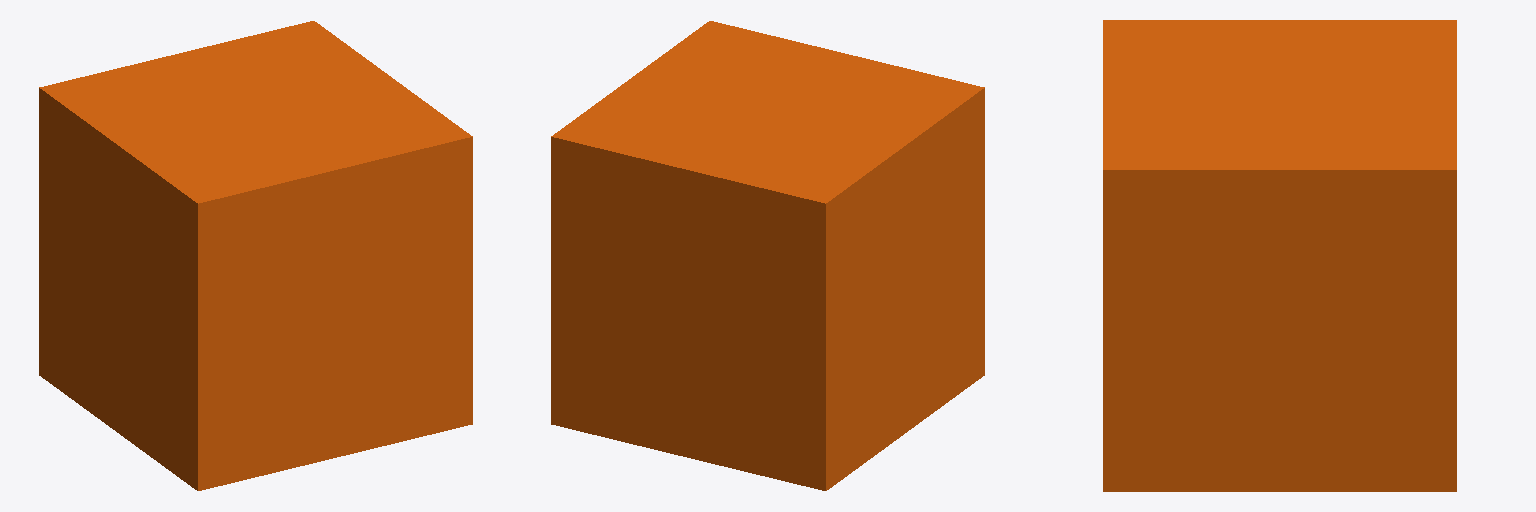
URDF robot description (cube):
<?xml version="1.0"?>
<!--
  cube.urdf
  Khối hộp đơn giản dùng để test pick-and-place trong pybullet.
  Kích thước mặc định: 5cm x 5cm x 5cm, khối lượng 0.1kg.
  Sửa các giá trị <size> và <mass> bên dưới nếu muốn đổi kích thước/khối lượng.
-->
<robot name="cube">
  <link name="cube_link">

    <inertial>
      <!-- Công thức quán tính cho hộp đặc: I = m/12 * (h^2 + d^2) -->
      <mass value="0.1"/>
      <inertia
        ixx="4.1667e-5" ixy="0.0" ixz="0.0"
        iyy="4.1667e-5" iyz="0.0"
        izz="4.1667e-5"/>
    </inertial>

    <visual>
      <origin xyz="0 0 0" rpy="0 0 0"/>
      <geometry>
        <box size="0.05 0.05 0.05"/>
      </geometry>
      <material name="orange">
        <color rgba="0.9 0.45 0.1 1.0"/>
      </material>
    </visual>

    <collision>
      <origin xyz="0 0 0" rpy="0 0 0"/>
      <geometry>
        <box size="0.05 0.05 0.05"/>
      </geometry>
    </collision>

  </link>
</robot>

--- Facts derived from the render (not from the file) ---
3 views of the same robot in one strip: view 1: azimuth 30°, elevation 25°; view 2: azimuth 150°, elevation 25°; view 3: azimuth 270°, elevation 25° (orthographic).
Robot: cube — 1 links, 0 joints (none); root link cube_link; default pose: every joint at zero.
Visible links, largest first — view 1: cube_link; view 2: cube_link; view 3: cube_link.
Link boxes in pixels (bbox=[...]): cube_link: bbox=[39, 21, 472, 490]; cube_link: bbox=[551, 21, 984, 490]; cube_link: bbox=[1103, 20, 1456, 491].
Size in the robot's own frame: 0.05 by 0.05 by 0.05 metres.
Geometry: primitives only (box / cylinder / sphere), no mesh files.
